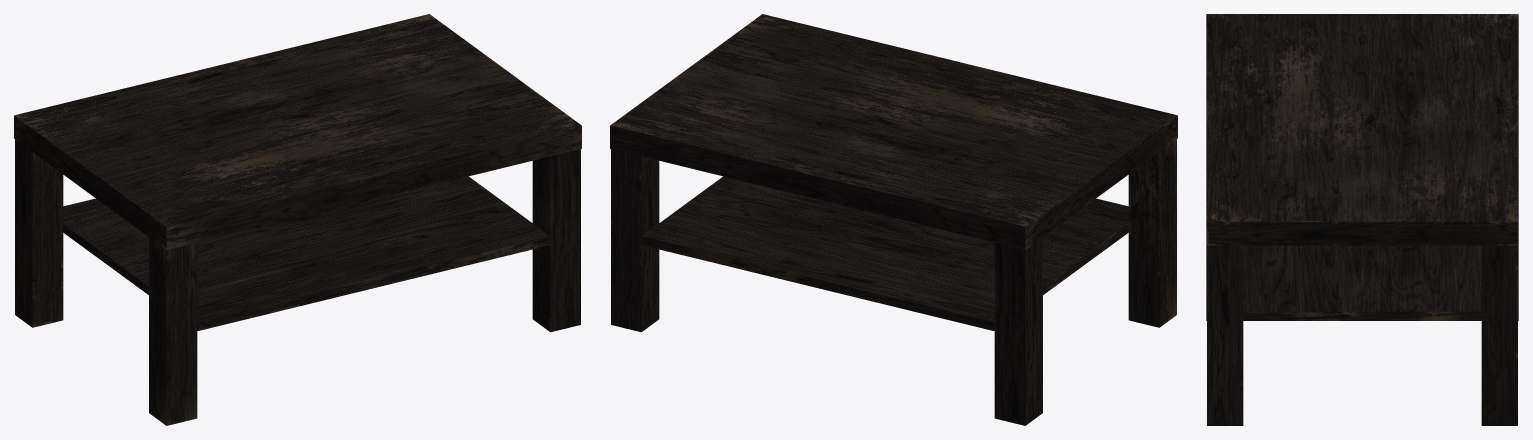
3 views of the same model, side by side, from view 1: azimuth 30°, elevation 25°; view 2: azimuth 150°, elevation 25°; view 3: azimuth 270°, elevation 25° (orthographic). The views are drawn at different scales.
Parts seen in each view (by area): view 1: Table_Lp; view 2: Table_Lp; view 3: Table_Lp.
Part boxes in pixels (x1,y1,x2,y2): Table_Lp: (14,14,581,425); Table_Lp: (610,14,1177,425); Table_Lp: (1206,14,1518,425).
Bounding box in the file's own units: 1.31 × 0.6024 × 0.8345.
1 material, 1 textured.
